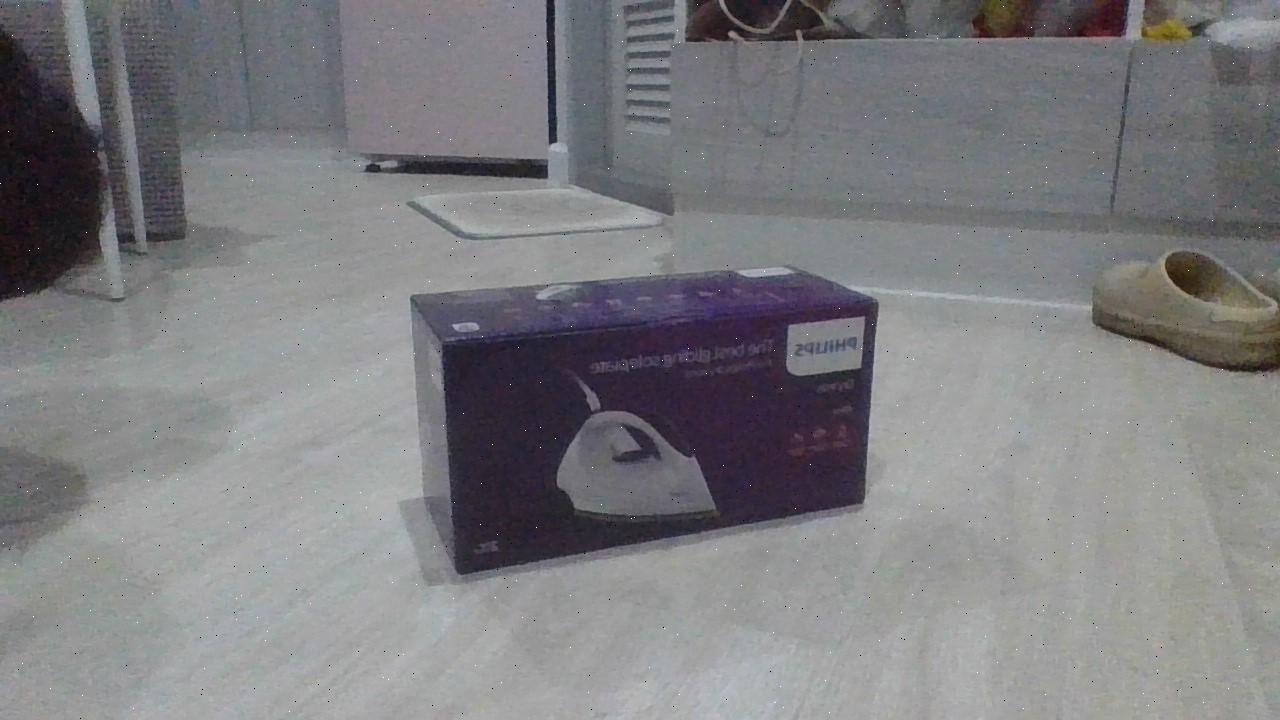IRON: (406, 259, 884, 582)
